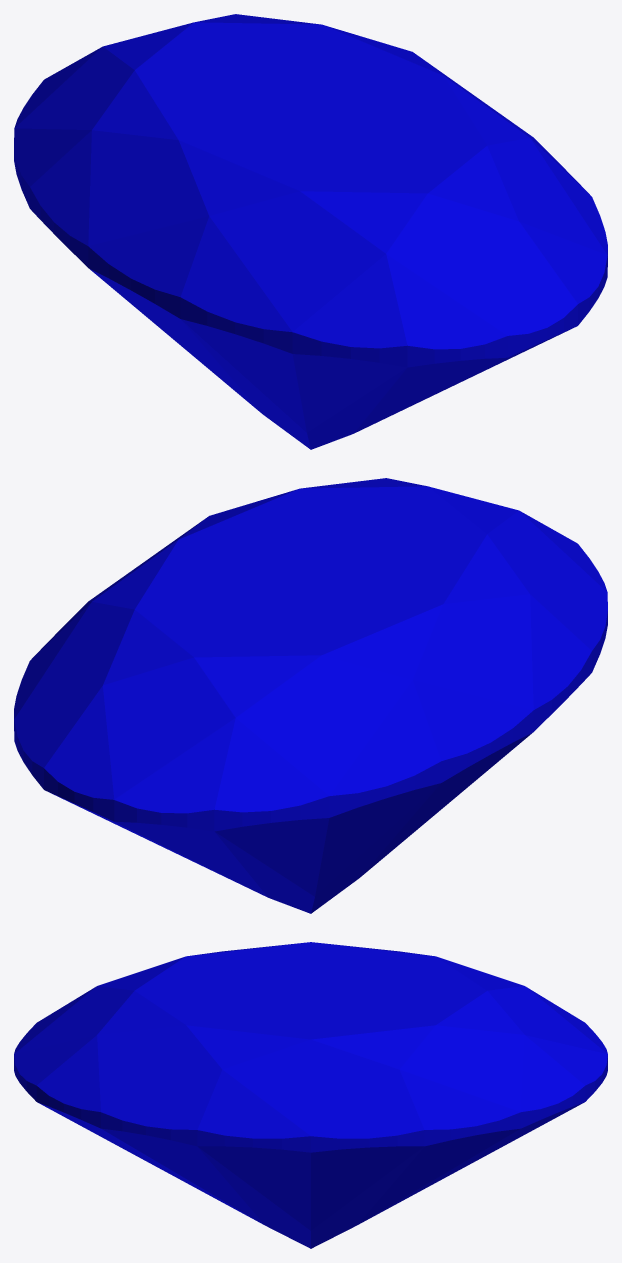
The model's file is Head_Single Halo_Oval_3.0ct_Diamond.glb.
The picture shows the model from 3 angles, top to bottom: view 1: azimuth 30°, elevation 25°; view 2: azimuth 150°, elevation 25°; view 3: azimuth 270°, elevation 25°; orthographic projection. The views are drawn at different scales.
Size of the model in its own units: 0.00748 by 0.00549 by 0.0114.
